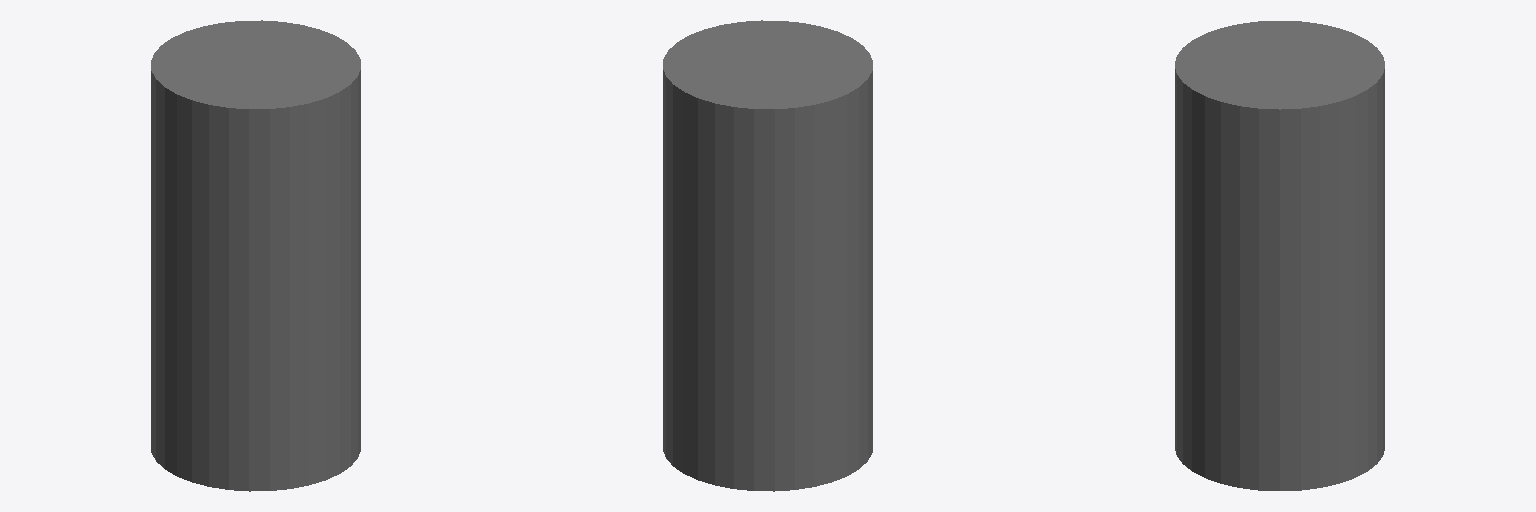
robot.urdf — cylinder_obstacle:
<?xml version="1.0"?>
<robot name="cylinder_obstacle">
  <link name="base_link">

    <collision>
      <geometry>
        <cylinder radius="0.5" length="2.0"/>
      </geometry>
    </collision>

    <inertial>
      <mass value="0"/>
      <inertia ixx="0" ixy="0" ixz="0" iyy="0" iyz="0" izz="0"/>
    </inertial>

    <visual>
      <geometry>
        <cylinder radius="0.5" length="2.0"/>
      </geometry>
      <material name="grey">
        <color rgba="0.5 0.5 0.5 1.0"/>
      </material>
    </visual>

  </link>
</robot>

--- Render facts (derived) ---
The picture shows the robot from 3 angles, left to right: view 1: azimuth 30°, elevation 25°; view 2: azimuth 150°, elevation 25°; view 3: azimuth 270°, elevation 25°; orthographic projection.
Robot: cylinder_obstacle — 1 links, 0 joints (none); root link base_link; default pose: every joint at zero.
Links seen in each view (by area): view 1: base_link; view 2: base_link; view 3: base_link.
Link boxes in pixels (<box>): base_link: <box>151,20,360,491</box>; base_link: <box>663,20,872,491</box>; base_link: <box>1175,21,1384,490</box>.
Size in the robot's own frame: 1 by 1 by 2 metres.
Geometry: primitives only (box / cylinder / sphere), no mesh files.
